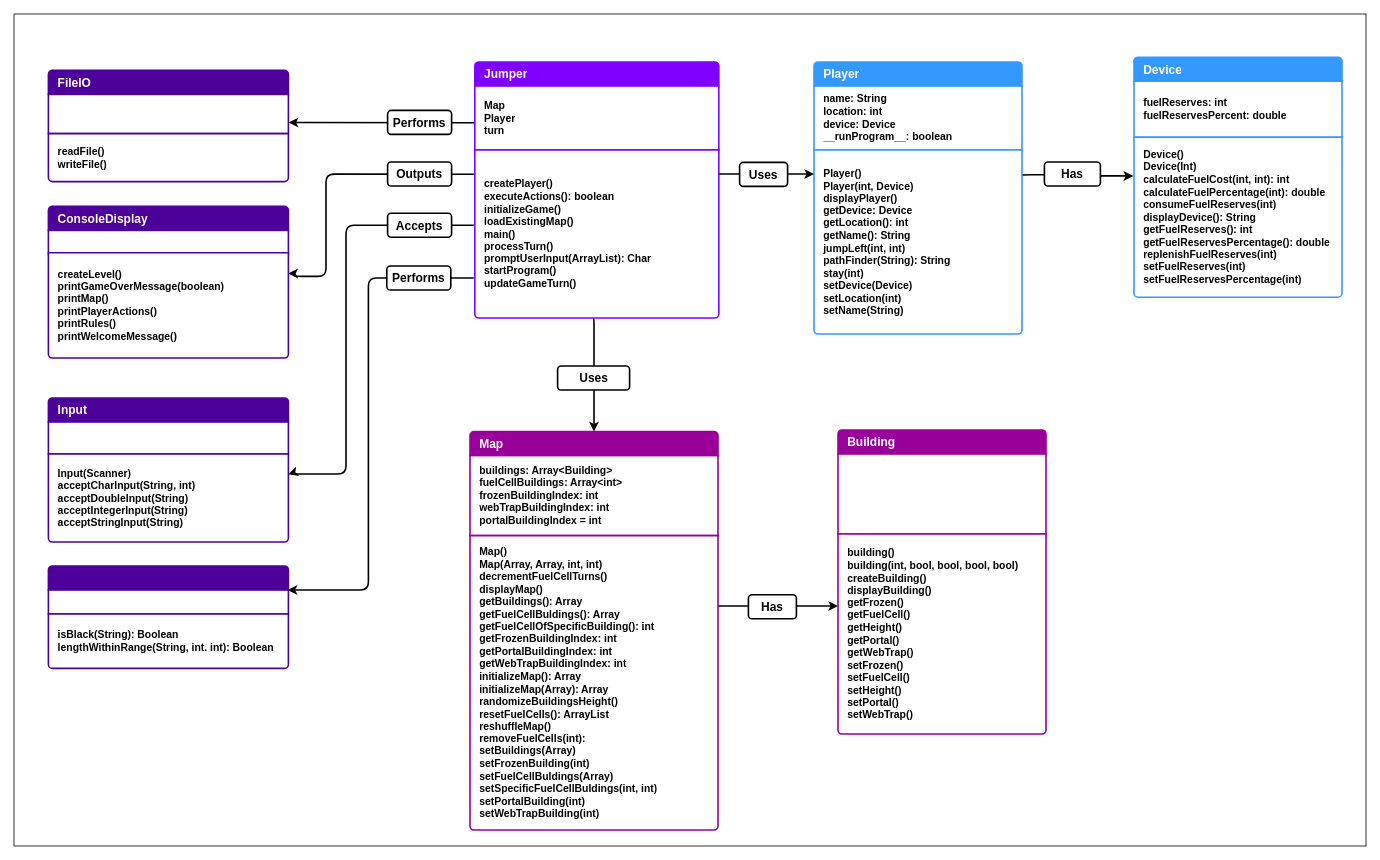
This 1380x860 diagram has some shape labels left out. Here are the shapes that lost their labels. From the top down, the centre of each, then its label:
At point 168,113: "fileName: String".
At point 168,437: "Scanner".
At point 941,493: "height: Int frozen: Boolean fuelCells: Boolean portal: Boolean webTraps: Boolean".
At point 168,577: "Validation".
